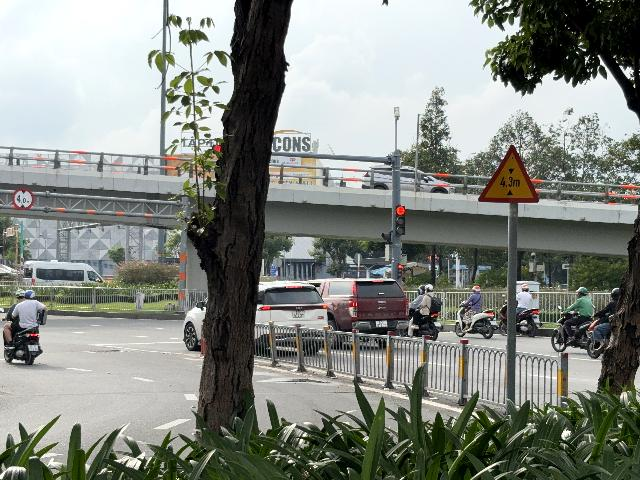chieu-cao-tinh-khong-thuc-te: (477, 145, 540, 203)
